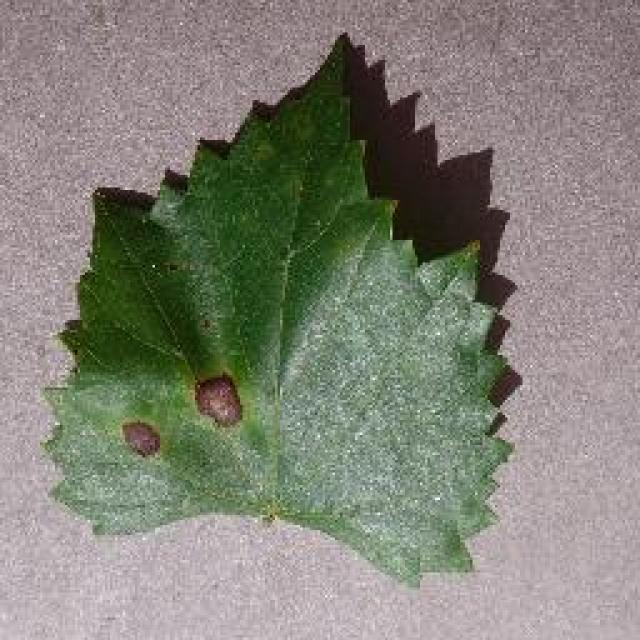Grape___Black_rot: (34, 30, 518, 593)
